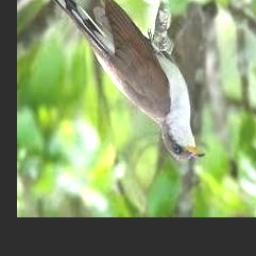Cuckoo: (35, 0, 205, 160)
